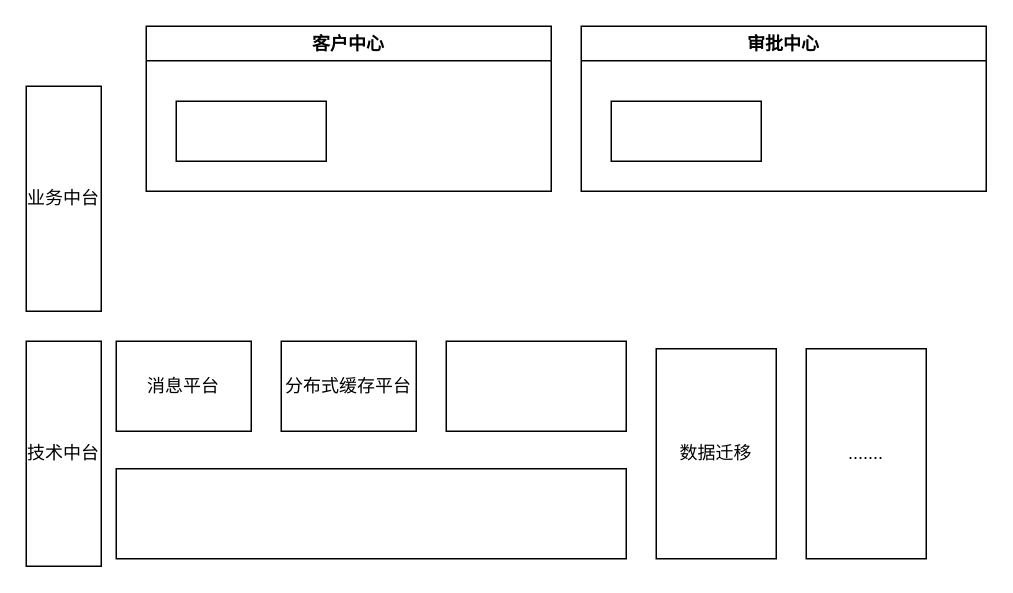
This 1013x593 diagram has some shape labels left out. The shapes that lost their labels are listed below. From the top down, each one's centre as x and y in pixels, then its label:
At [250,130]: "客户系统".
At [685,130]: "信贷审批".
At [535,385]: "分布式任务调度平台".
At [370,513]: "微服务框架".
